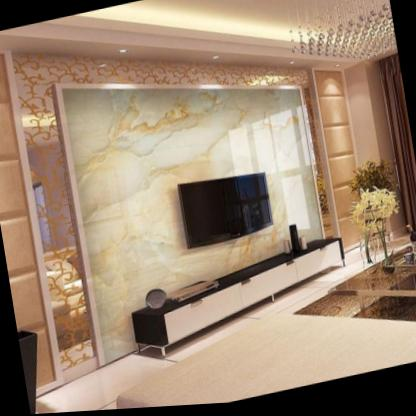Ceramic floor: (35, 278, 356, 414)
